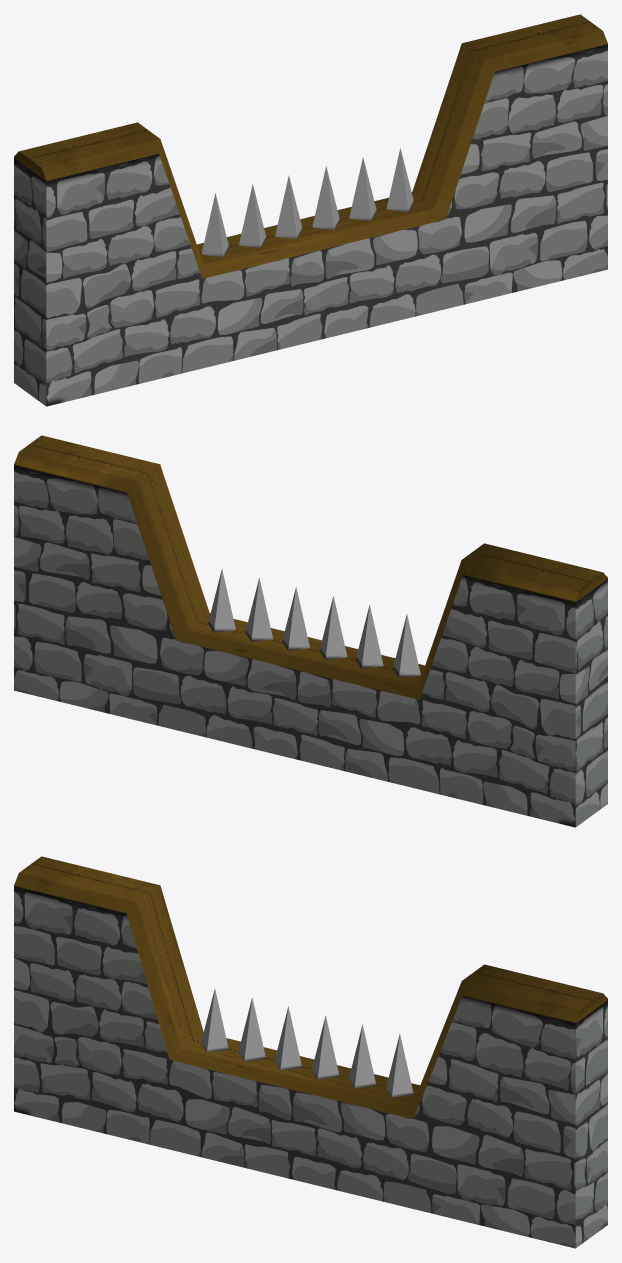
File: mod_wall_straight_c.fbx
3 renders of one model, top to bottom at view 1: azimuth 30°, elevation 25°; view 2: azimuth 150°, elevation 25°; view 3: azimuth 330°, elevation 25°, orthographic.
Parts seen in each view (by area): view 1: pCube3; view 2: pCube3; view 3: pCube3.
Part boxes in pixels (left/top/right/bottom): pCube3: left=14, top=14, right=607, bottom=406; pCube3: left=14, top=435, right=607, bottom=827; pCube3: left=14, top=856, right=607, bottom=1248.
Bounding box in the file's own units: 1300 × 520 × 130.
